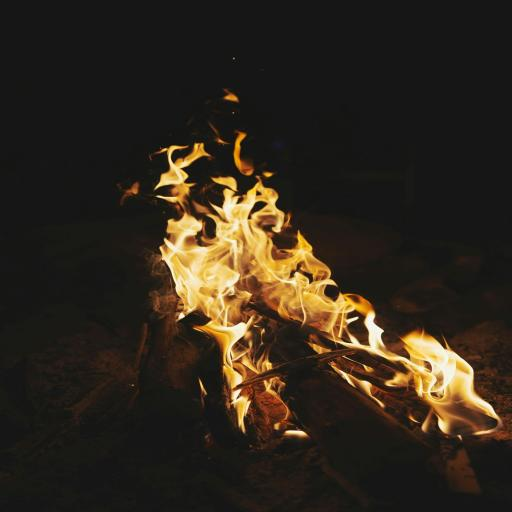campfire: (60, 64, 500, 484)
